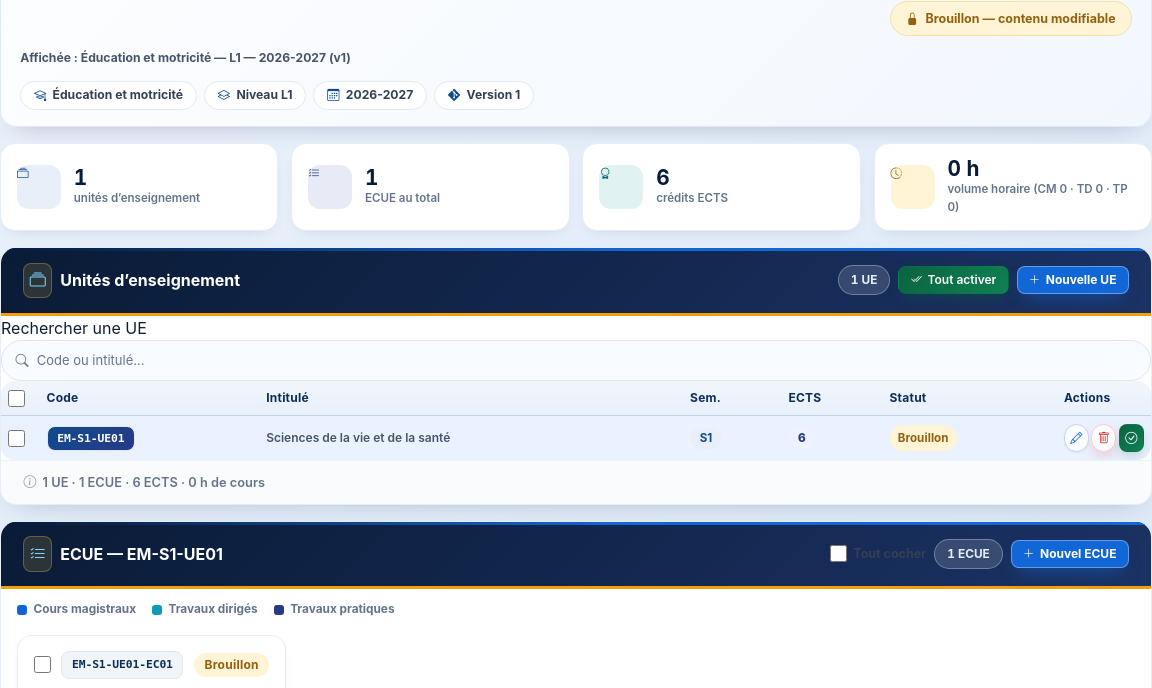
Test: affichage et lecture › filtre les UE par code ou intitulé
(page scrolled)
Step 1. Type "introuvable" into the search field with test id "recherche-ue" → [587, 361], box [37,342,1136,380]
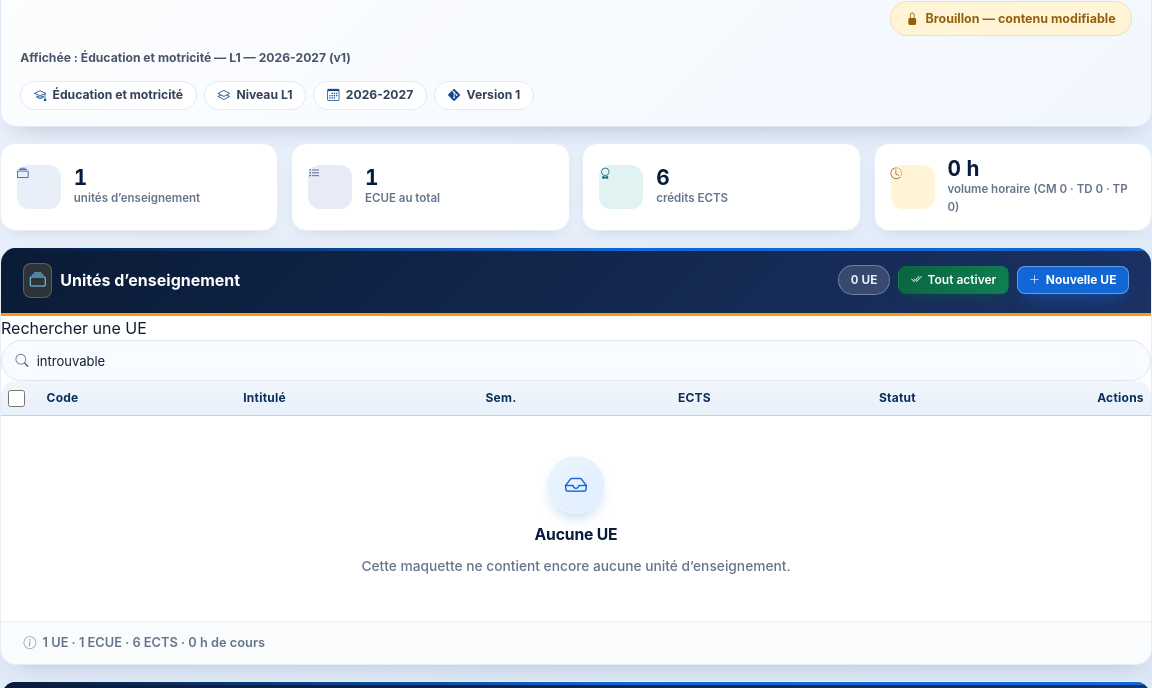
Expected: the row with test id "ligne-ue-10" is gone
Step 2. Replace the text in the search field with test id "recherche-ue" with "EM-S1" → [587, 361], box [37,342,1136,380]
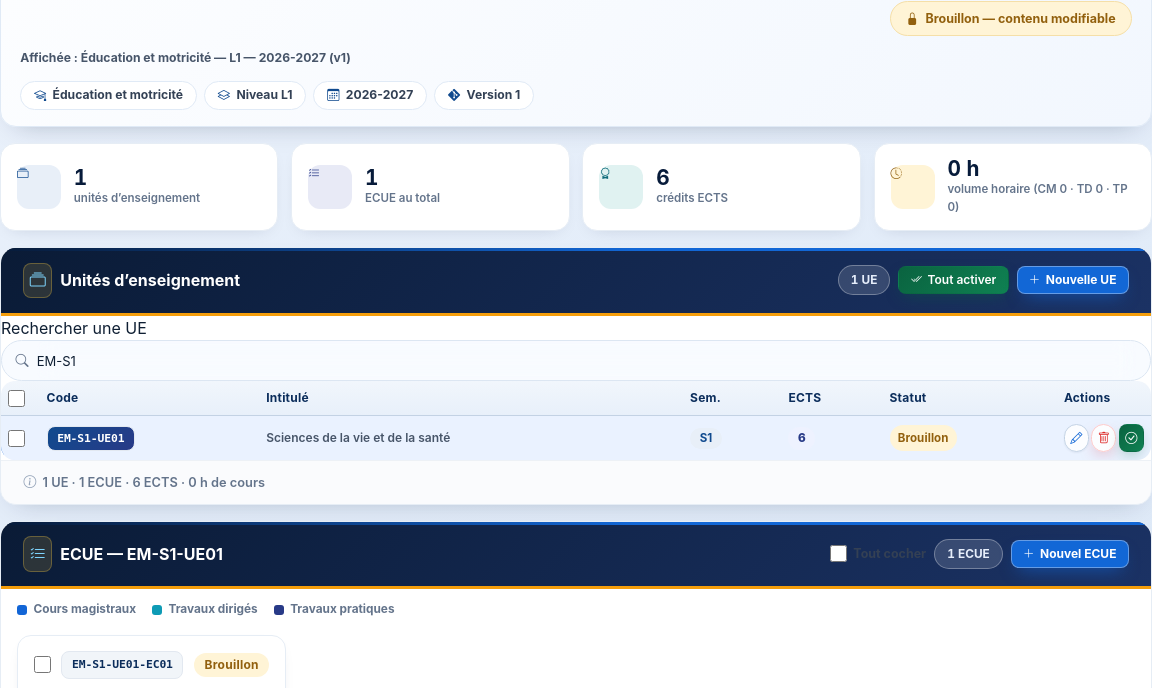
Expected: the row with test id "ligne-ue-10" is shown, [1,416,1151,460]
